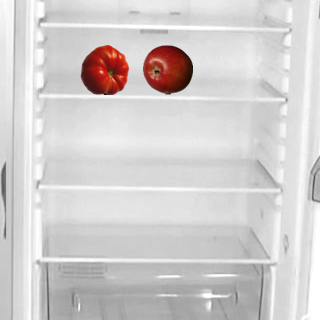Apple Braeburn: (142, 44, 192, 94)
Tomato 3: (79, 44, 129, 94)
